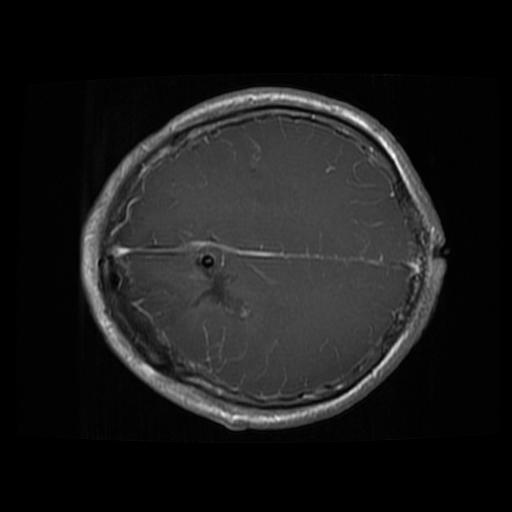glioma: (190, 269, 251, 320)
